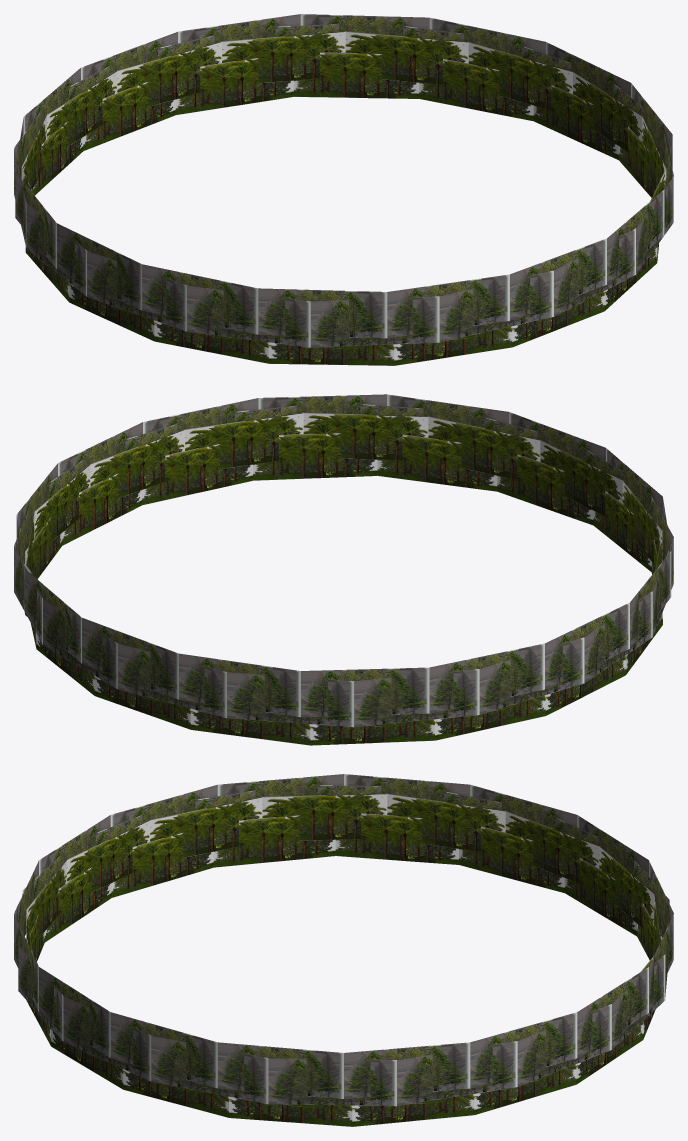
The model's file is fireflyhollow_rainforest.fbx.
The picture shows the model from 3 angles, top to bottom: view 1: azimuth 30°, elevation 25°; view 2: azimuth 150°, elevation 25°; view 3: azimuth 270°, elevation 25°; orthographic projection.
Visible parts, largest first — view 1: rainforest.004, rainforest.001, rainforest.003, rainforest.002; view 2: rainforest.001, rainforest.004, rainforest.003, rainforest.002; view 3: rainforest.002, rainforest.003, rainforest.004, rainforest.001.
Part boxes in pixels (left/top/right/bottom): rainforest.004: left=14, top=14, right=468, bottom=195; rainforest.001: left=187, top=168, right=673, bottom=365; rainforest.003: left=419, top=17, right=673, bottom=260; rainforest.002: left=14, top=118, right=268, bottom=363; rainforest.001: left=185, top=394, right=673, bottom=571; rainforest.004: left=14, top=546, right=502, bottom=745; rainforest.003: left=14, top=398, right=258, bottom=647; rainforest.002: left=429, top=498, right=673, bottom=740; rainforest.002: left=110, top=774, right=577, bottom=897; rainforest.003: left=110, top=1012, right=577, bottom=1126; rainforest.004: left=505, top=811, right=673, bottom=1086; rainforest.001: left=14, top=815, right=182, bottom=1089.
Bounding box in the file's own units: 20246 × 2640 × 20246.
Materials: 2 (2 with a texture image).
